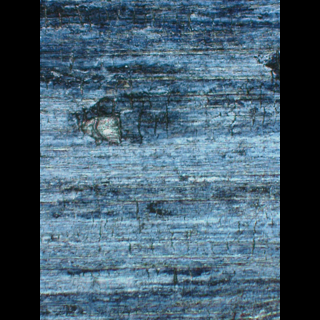d: (66, 91, 134, 148)
